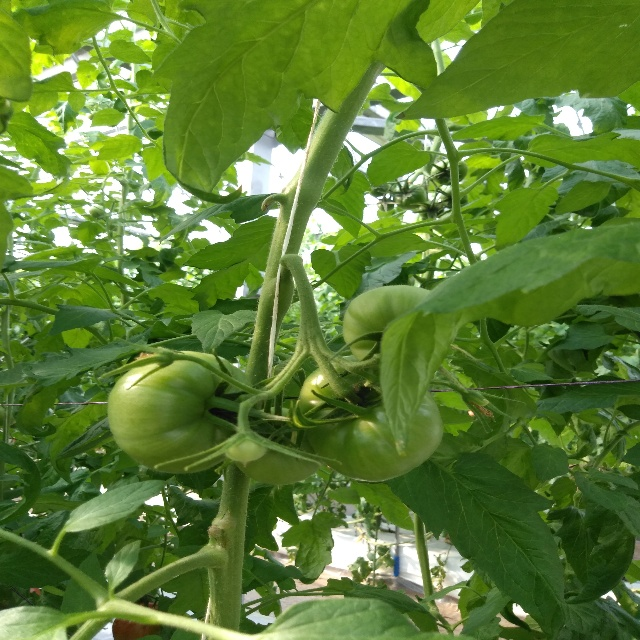b_green: (107, 349, 256, 474), (299, 356, 443, 482), (343, 285, 429, 371), (233, 407, 323, 486)
